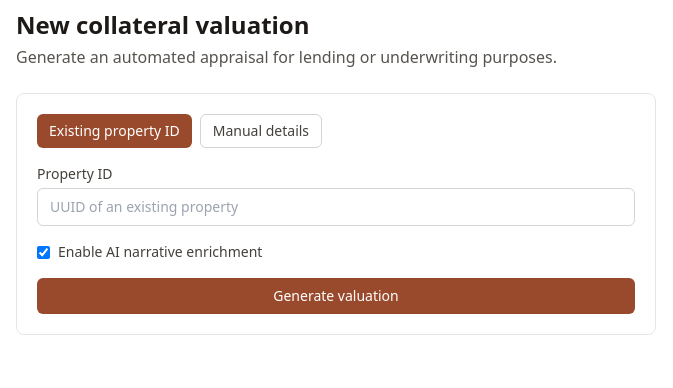
NewCollateralValuationPage › shows an insufficient-data message rather than redirecting when no report is persisted
Type "prop-1" into the field labelled "Property ID" at (336, 207), box [37,188,635,226]
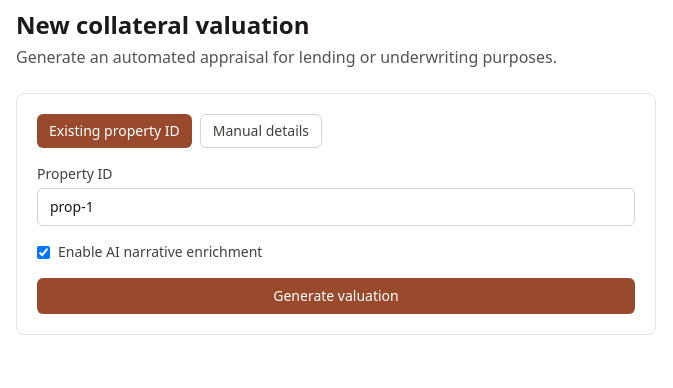
Click the button "Generate valuation" at (336, 296), box [37,278,635,314]
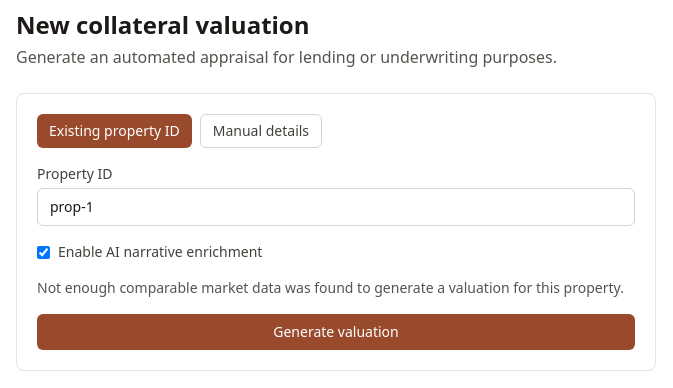
Now the text with test id "insufficient-data-message" is shown, box [37,278,635,298]
